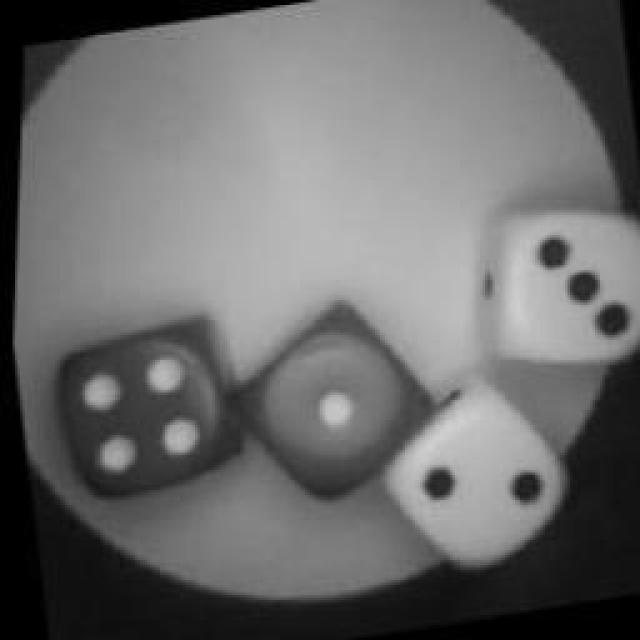dice_1: (222, 304, 446, 518)
dice_2: (369, 378, 579, 584)
dice_3: (465, 192, 640, 390)
dice_4: (38, 304, 264, 508)
